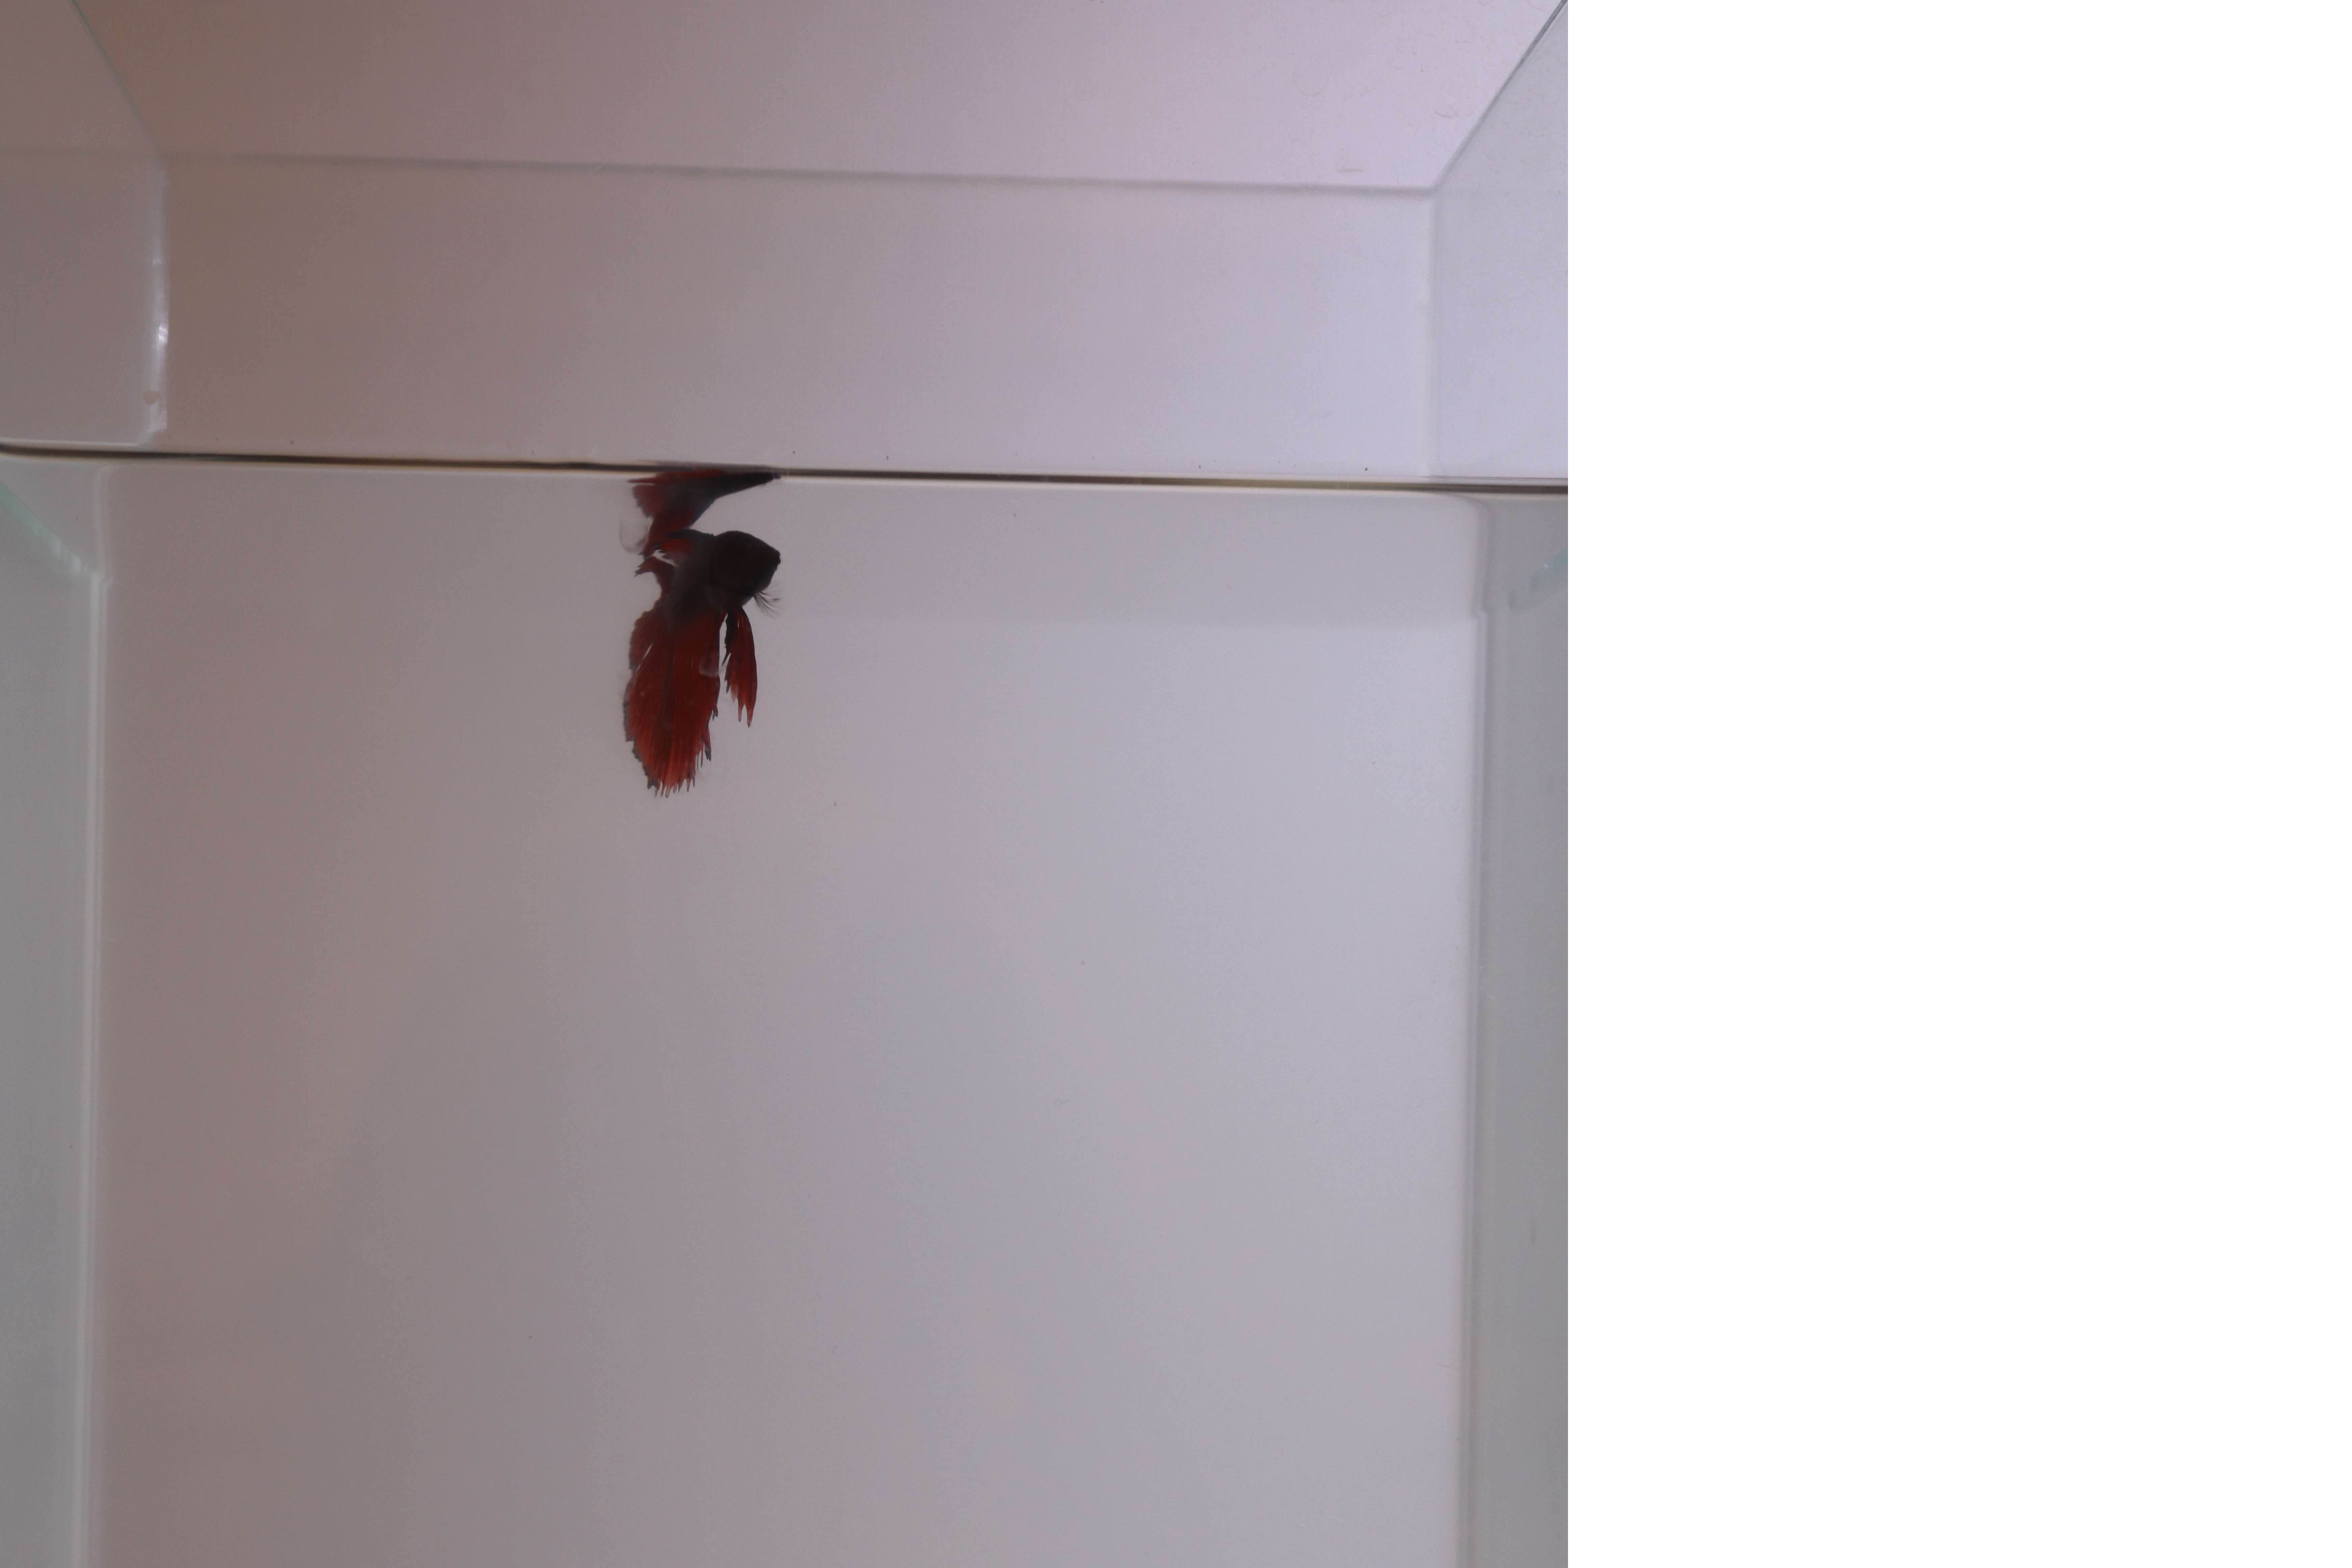fish: (602, 527, 824, 798)
